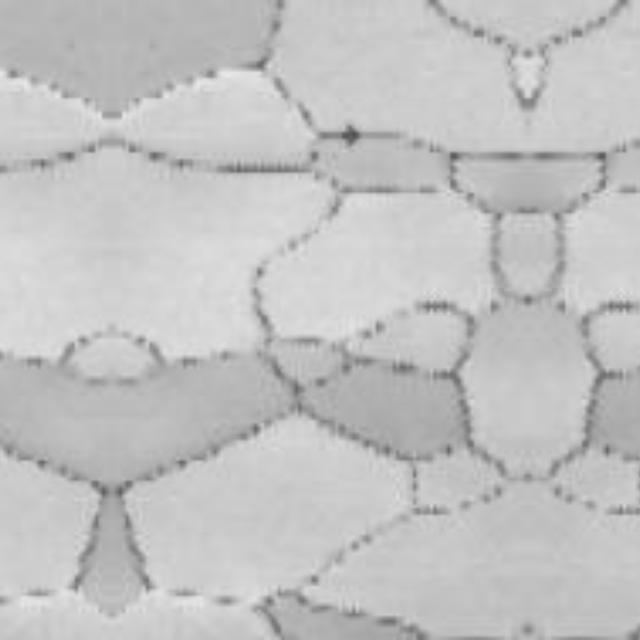good_void: (345, 126, 361, 148)
